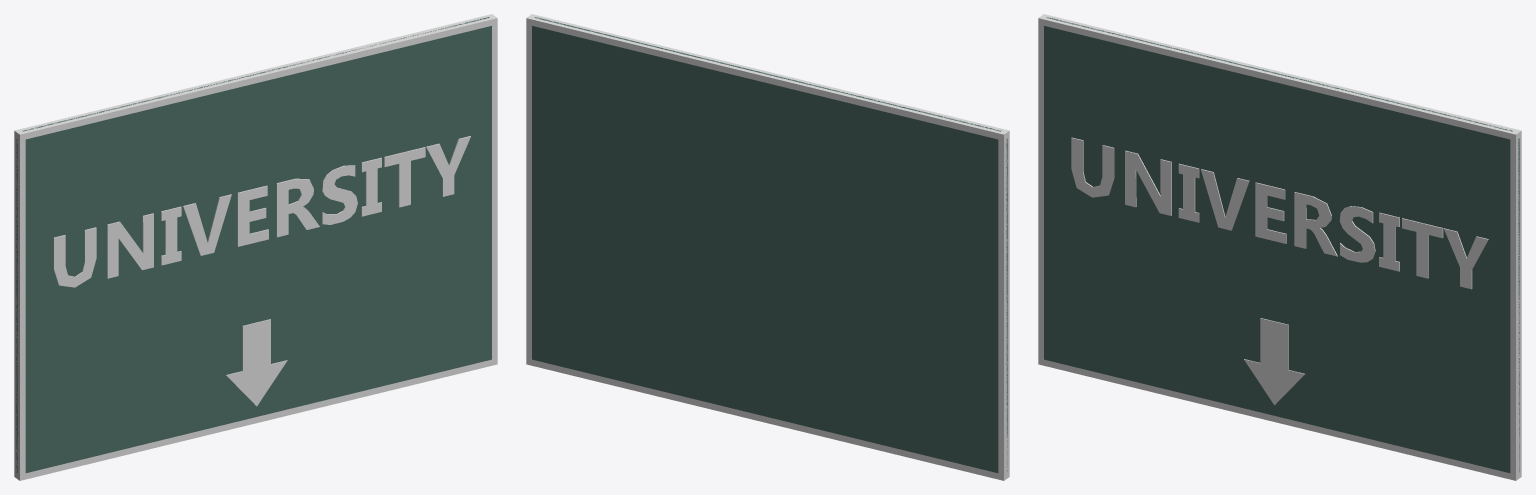
Rendered from SM_FloorProps_RoadSign_34.fbx.
3 views of the same model, side by side, from view 1: azimuth 30°, elevation 25°; view 2: azimuth 150°, elevation 25°; view 3: azimuth 330°, elevation 25° (orthographic).
Visible parts, largest first — view 1: SM_FloorProps_RoadSign_34; view 2: SM_FloorProps_RoadSign_34; view 3: SM_FloorProps_RoadSign_34.
Part boxes in pixels (<box>): SM_FloorProps_RoadSign_34: <box>14,14,497,480</box>; SM_FloorProps_RoadSign_34: <box>526,14,1009,480</box>; SM_FloorProps_RoadSign_34: <box>1038,14,1521,480</box>.
Size of the model in its own units: 2.33 by 1.61 by 0.0526.
